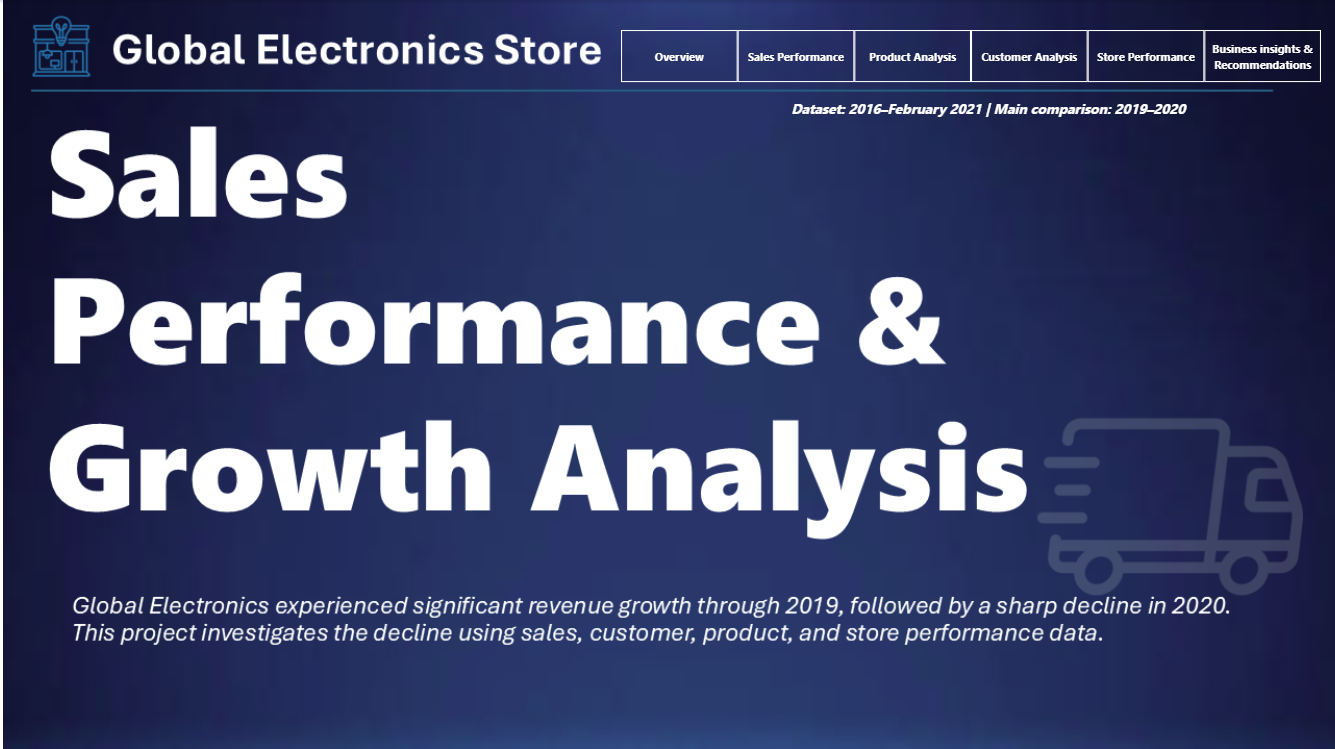

This screenshot's page, from the dashboard's own definition file:
{"tool":"powerbi","page":{"name":"Landing Page","canvas":[1280,720],"ordinal":8},"visuals":[{"type":"textbox","box":[9.7,0,280.1,90.5],"z":0},{"type":"image","box":[0,0,1280,720.1],"z":1000},{"type":"pageNavigator","box":[593.3,28.5,674.9,50.1],"z":2001},{"type":"textbox","box":[751.5,90.4,405.7,33.4],"z":2502}]}

Visuals, with their boxes in screenshot pixels (x1, y1, x2, y2), scaled from the page's 1280x720 canvas onto the 1335x749 screenshot:
textbox: BBox(10, 0, 302, 94)
image: BBox(0, 0, 1334, 748)
pageNavigator: BBox(619, 30, 1323, 82)
textbox: BBox(784, 94, 1207, 129)
